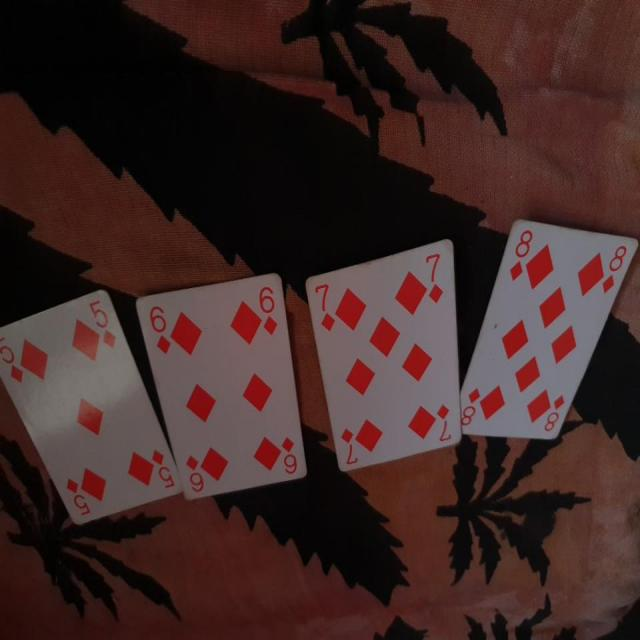5 Diamonds: (2, 285, 180, 528)
6 Diamonds: (133, 265, 309, 499)
7 Diamonds: (303, 238, 462, 473)
8 Diamonds: (461, 216, 639, 441)
